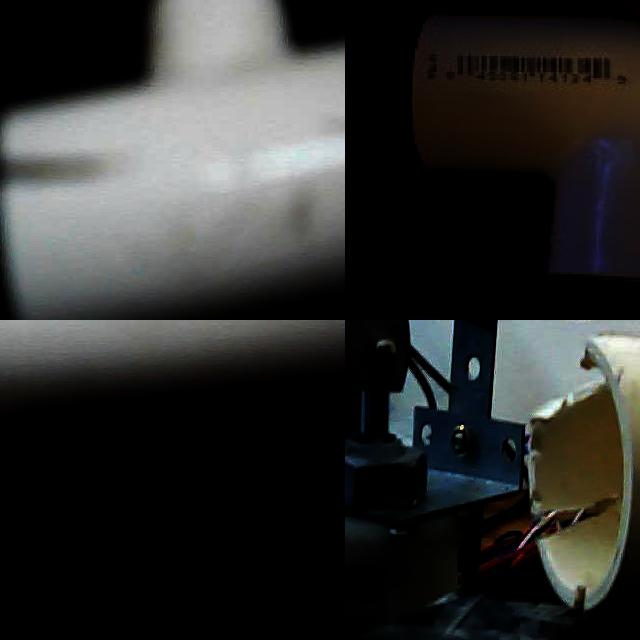Defective: (524, 352, 626, 438), (531, 492, 627, 564), (0, 135, 103, 190), (565, 572, 603, 622)
L Joint: (408, 13, 640, 285)
T Joint: (43, 0, 345, 320)
